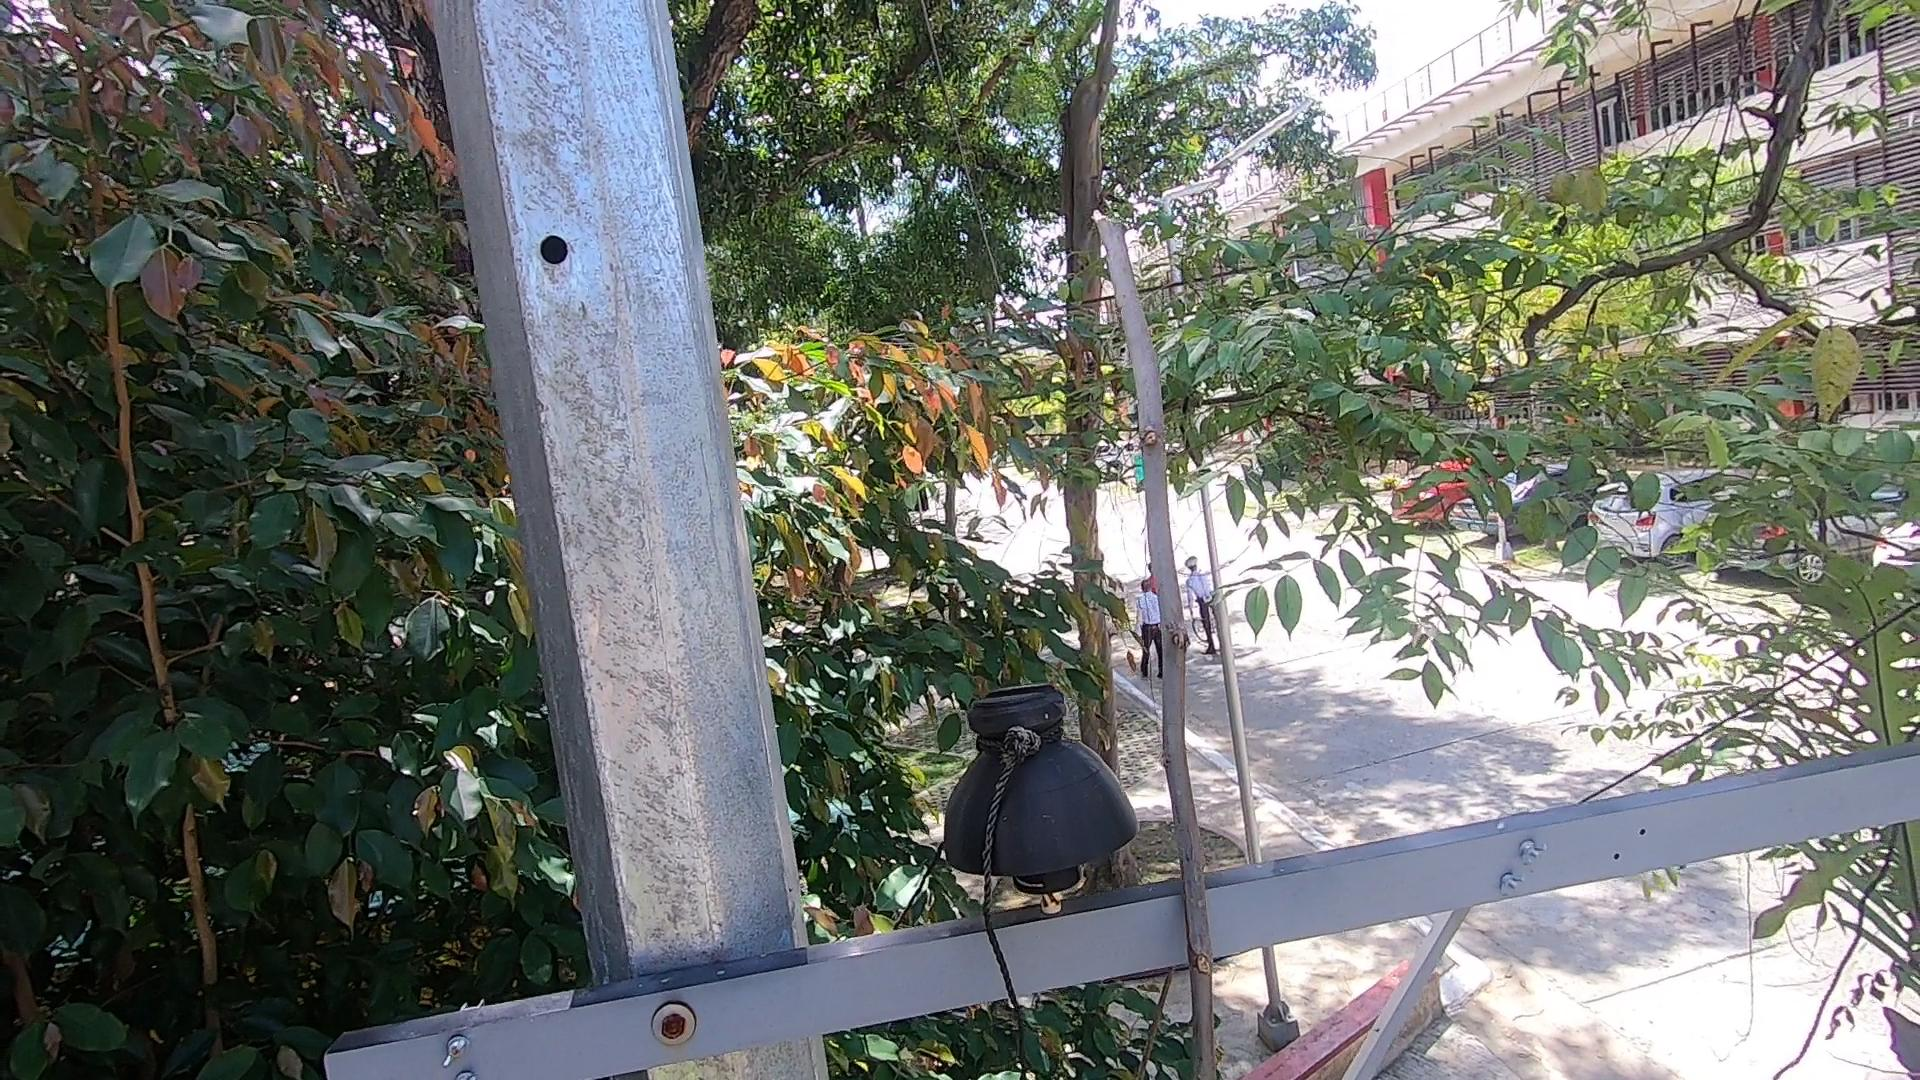tree branch: (997, 173, 1324, 1080)
